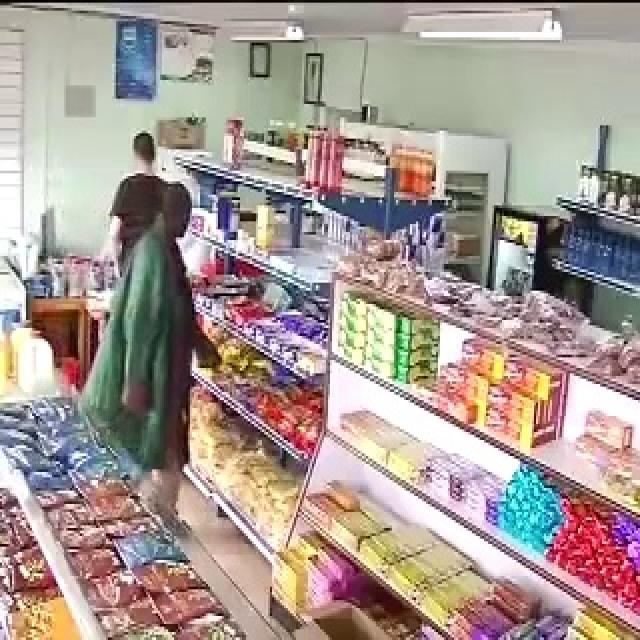normal: (84, 178, 220, 502), (118, 118, 182, 226)
